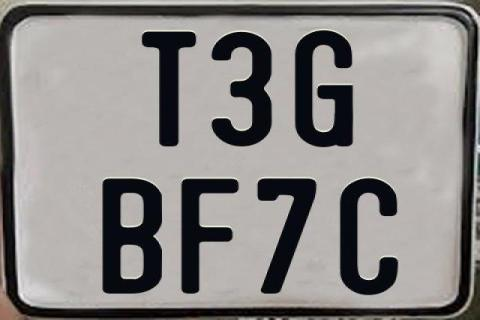0: (212, 30, 276, 146), (254, 177, 314, 297)
B: (99, 177, 164, 296)
C: (340, 177, 400, 293)
F: (178, 178, 240, 296)
G: (294, 30, 355, 152)
T: (140, 29, 196, 144)
